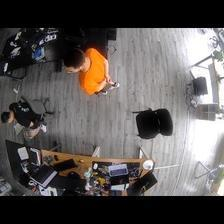normal: (62, 46, 120, 94), (1, 97, 51, 140)
